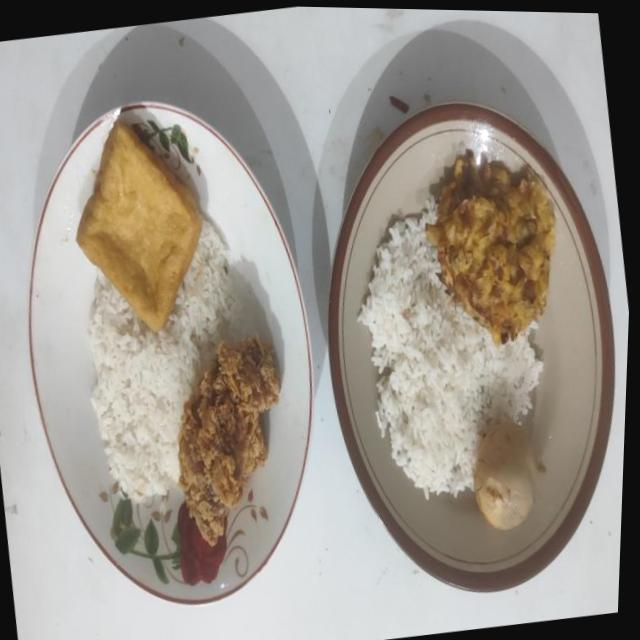nasi_putih: (358, 196, 544, 499), (89, 220, 250, 502)
tahu_goreng: (76, 120, 202, 332)
